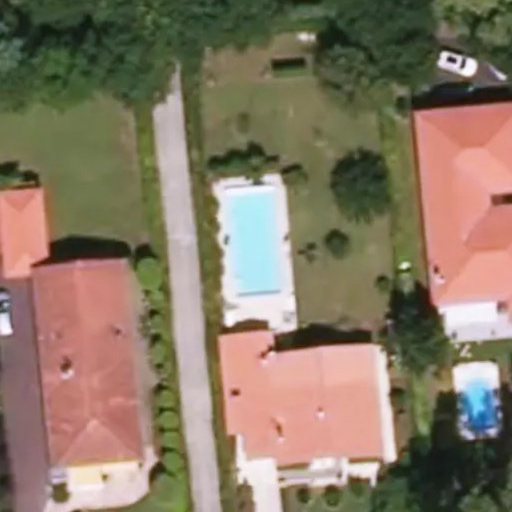pool: (226, 191, 283, 291)
